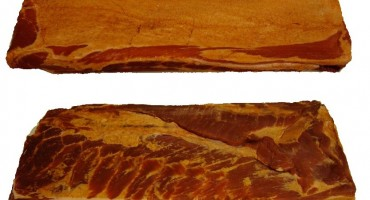bacon: (15, 103, 359, 198), (8, 1, 350, 77)
